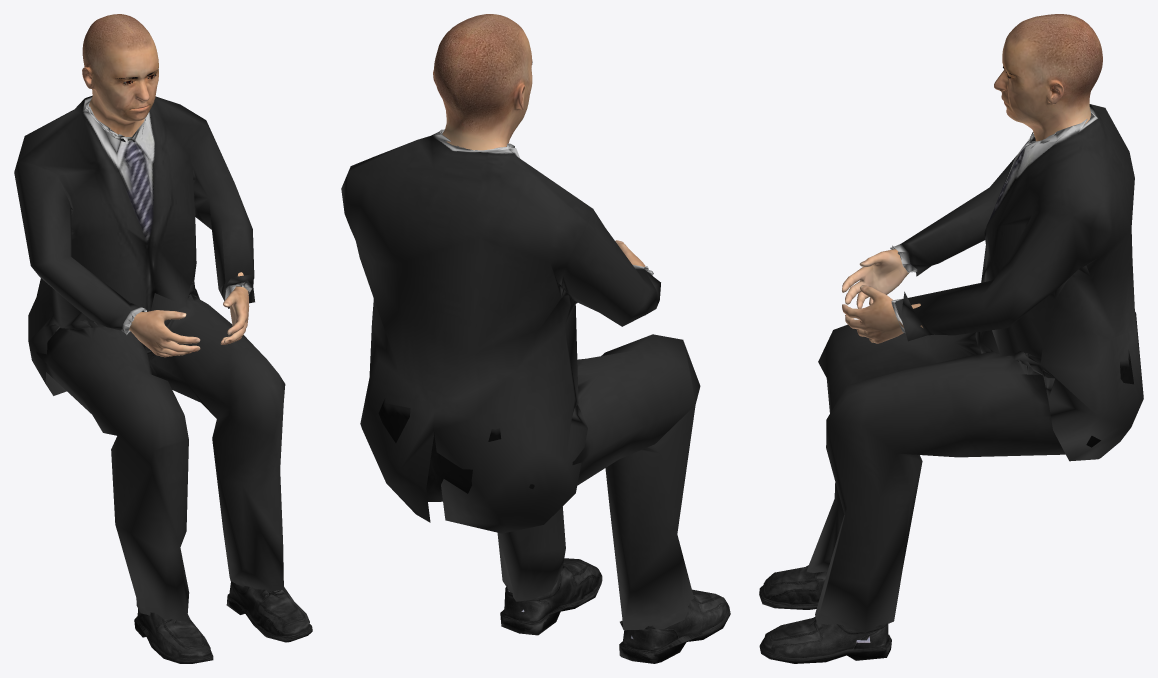
Rendered from ellis-seated.glb.
3 renders of one model, left to right at view 1: azimuth 30°, elevation 25°; view 2: azimuth 150°, elevation 25°; view 3: azimuth 270°, elevation 25°, orthographic. The views are drawn at different scales.
Visible parts, largest first — view 1: male_elegantsuit01, Ellis | anatomical body, shoes04; view 2: male_elegantsuit01, Ellis | anatomical body, shoes04; view 3: male_elegantsuit01, Ellis | anatomical body, shoes04.
Boxes of the visible parts, <box> form: male_elegantsuit01: <box>14,95,285,621</box>; Ellis | anatomical body: <box>82,14,249,357</box>; shoes04: <box>134,581,312,663</box>; male_elegantsuit01: <box>341,129,700,630</box>; Ellis | anatomical body: <box>433,14,645,266</box>; shoes04: <box>500,558,730,663</box>; male_elegantsuit01: <box>806,104,1143,632</box>; Ellis | anatomical body: <box>842,14,1102,343</box>; shoes04: <box>759,565,891,663</box>.
Bounding box in the file's own units: 0.5541 × 1.36 × 0.7784.
6 materials, 6 textured.
